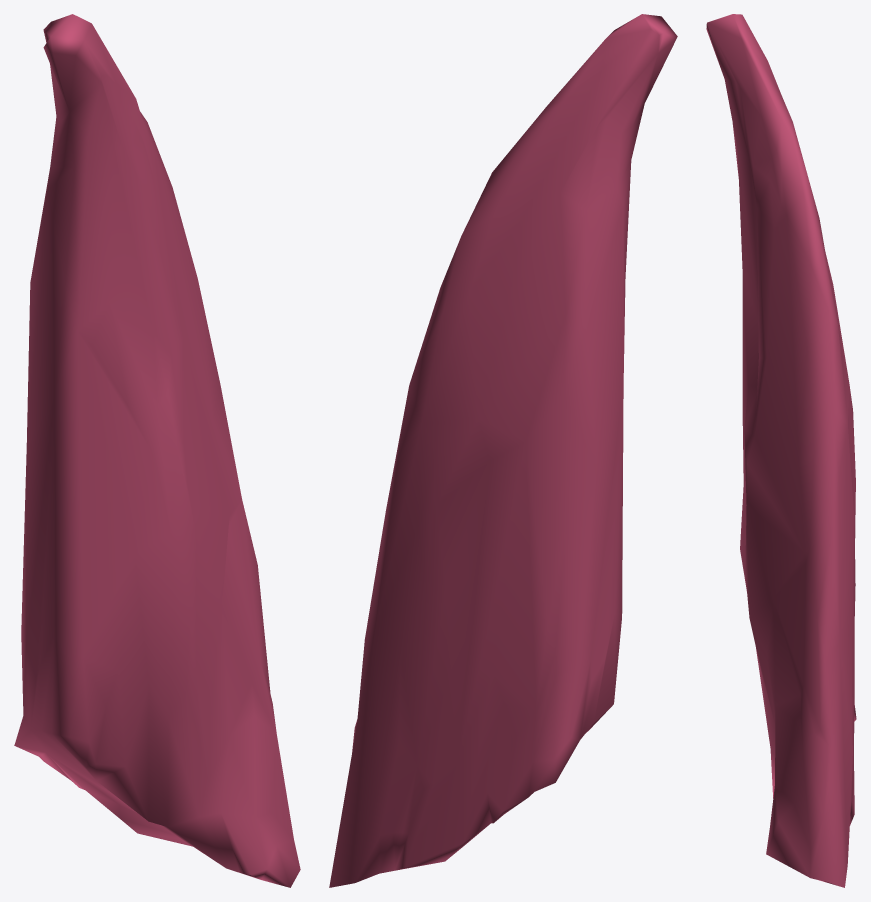
The picture shows the model from 3 angles, left to right: view 1: azimuth 30°, elevation 25°; view 2: azimuth 150°, elevation 25°; view 3: azimuth 270°, elevation 25°; orthographic projection. The views are drawn at different scales.
Visible parts, largest first — view 1: 右侧二腹肌前腹; view 2: 右侧二腹肌前腹; view 3: 右侧二腹肌前腹.
Part boxes in pixels (x1,y1,x2,y2): 右侧二腹肌前腹: (14, 14, 300, 887); 右侧二腹肌前腹: (329, 14, 677, 887); 右侧二腹肌前腹: (706, 14, 856, 887).
Size of the model in its own units: 0.0176 by 0.0527 by 0.00933.
